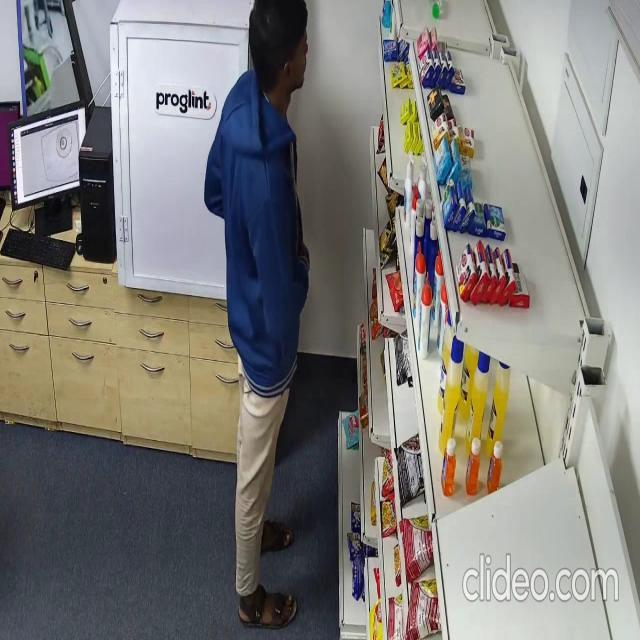Shoplifting: (204, 0, 316, 633)
